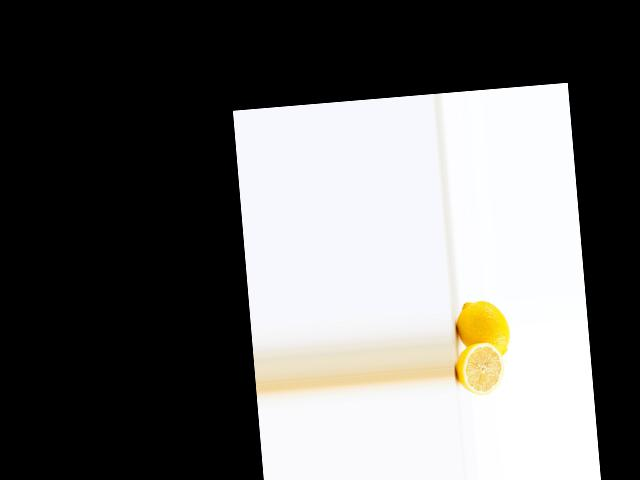lemon: (449, 296, 510, 366)
